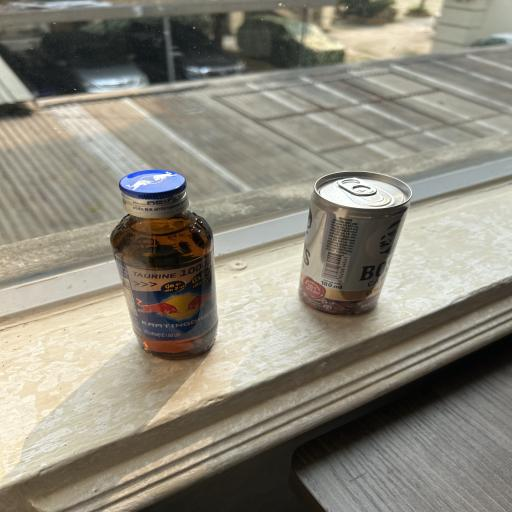bo_huc: (113, 166, 219, 362)
boss_coffee: (298, 170, 414, 319)
